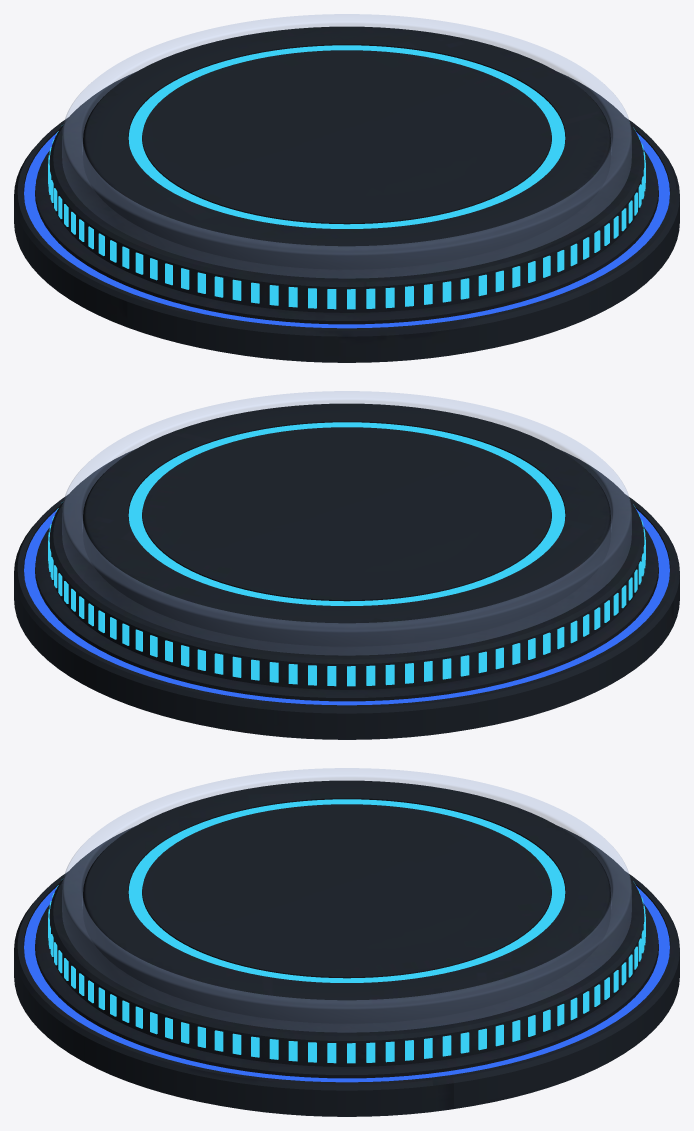
File: pedestal.glb
The picture shows the model from 3 angles, top to bottom: view 1: azimuth 30°, elevation 25°; view 2: azimuth 150°, elevation 25°; view 3: azimuth 270°, elevation 25°; orthographic projection.
Visible parts, largest first — view 1: Pedestal_Top, Pedestal_Base, Pedestal_RingInner, Pedestal_Segments, Pedestal_RingOuter; view 2: Pedestal_Top, Pedestal_Base, Pedestal_RingInner, Pedestal_Segments, Pedestal_RingOuter; view 3: Pedestal_Top, Pedestal_Base, Pedestal_RingInner, Pedestal_Segments, Pedestal_RingOuter.
Boxes of the visible parts, x1,y1,x2,y2 form: Pedestal_Top: [62, 14, 631, 278]; Pedestal_Base: [14, 71, 679, 362]; Pedestal_RingInner: [128, 45, 565, 228]; Pedestal_Segments: [48, 125, 645, 309]; Pedestal_RingOuter: [24, 132, 669, 328]; Pedestal_Top: [62, 391, 631, 655]; Pedestal_Base: [14, 448, 679, 739]; Pedestal_RingInner: [128, 422, 565, 605]; Pedestal_Segments: [48, 502, 645, 686]; Pedestal_RingOuter: [24, 509, 669, 705]; Pedestal_Top: [62, 768, 631, 1032]; Pedestal_Base: [14, 825, 679, 1116]; Pedestal_RingInner: [128, 799, 565, 982]; Pedestal_Segments: [48, 879, 645, 1063]; Pedestal_RingOuter: [24, 886, 669, 1082].
Bounding box in the file's own units: 0.56 × 0.088 × 0.56.
Materials: 4 (1 with a texture image).
